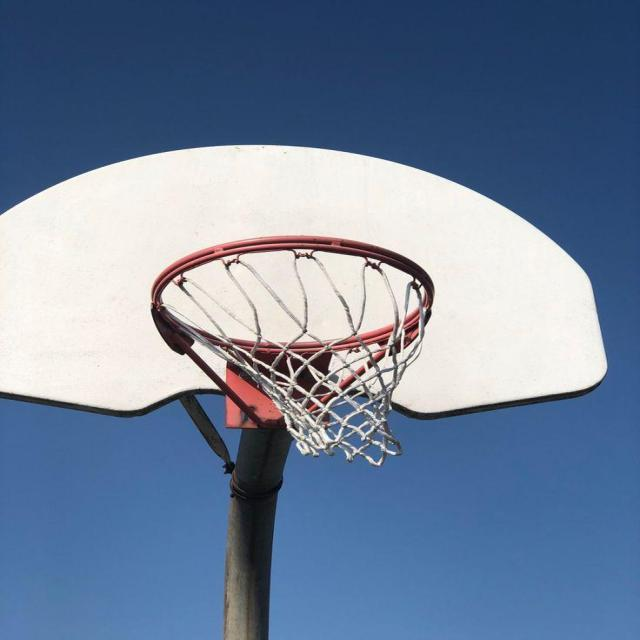hoop: (130, 239, 480, 462)
